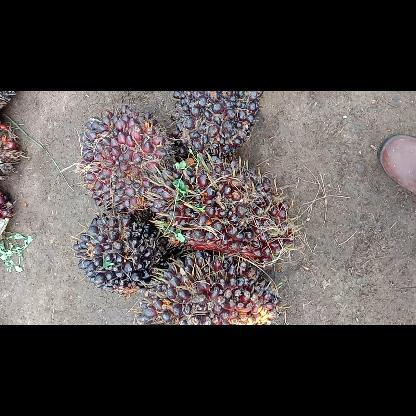TBS mentah: (146, 152, 298, 266), (75, 102, 177, 216), (132, 250, 284, 324), (70, 210, 181, 296), (168, 91, 264, 161)
